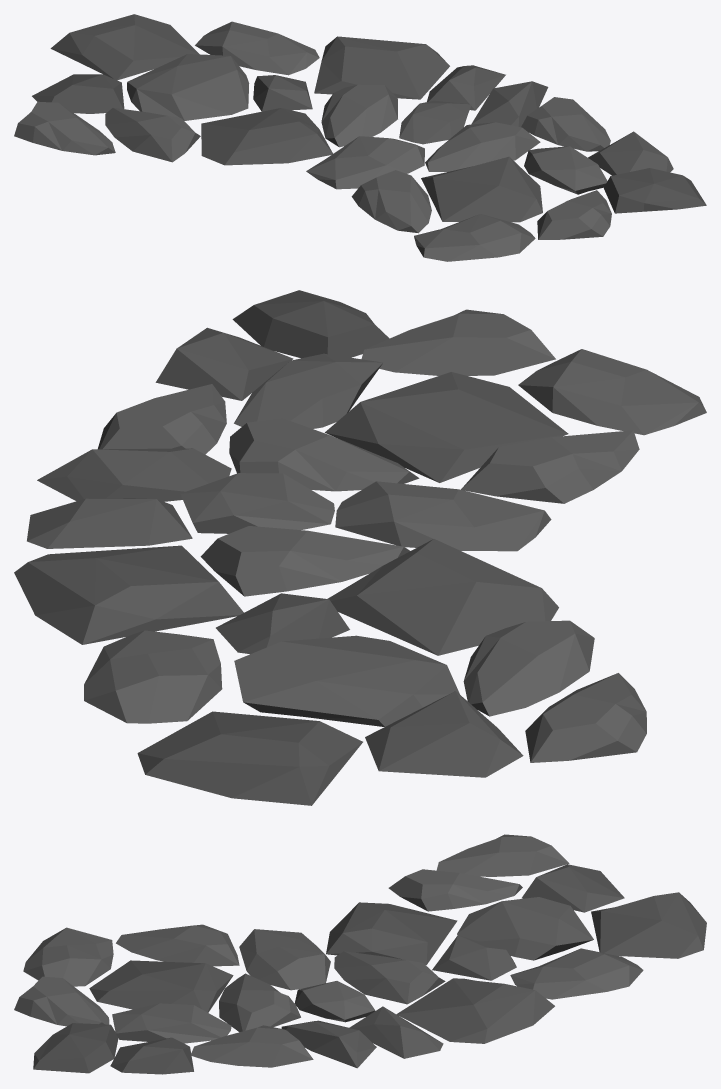
Rendered from road_stone_left_smooth.fbx.
The picture shows the model from 3 angles, top to bottom: view 1: azimuth 30°, elevation 25°; view 2: azimuth 150°, elevation 25°; view 3: azimuth 270°, elevation 25°; orthographic projection. The views are drawn at different scales.
Visible parts, largest first — view 1: road_stone_left; view 2: road_stone_left; view 3: road_stone_left.
Boxes of the visible parts, x1=… form: road_stone_left: x1=14, y1=14, x2=706, y2=261; road_stone_left: x1=14, y1=290, x2=706, y2=805; road_stone_left: x1=14, y1=834, x2=706, y2=1074.
Bounding box in the file's own units: 233 × 10.31 × 296.
